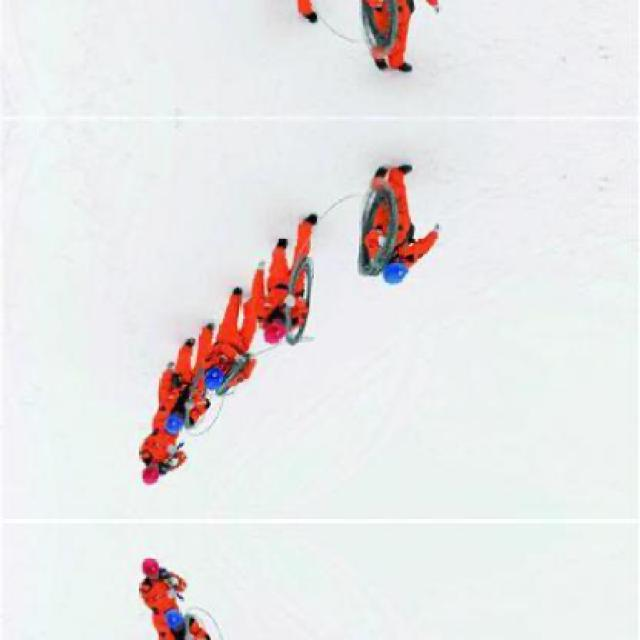con casco: (354, 241, 415, 295), (196, 359, 258, 401), (247, 316, 315, 354), (116, 453, 176, 492), (143, 598, 207, 632), (163, 406, 218, 442), (122, 543, 172, 579)
